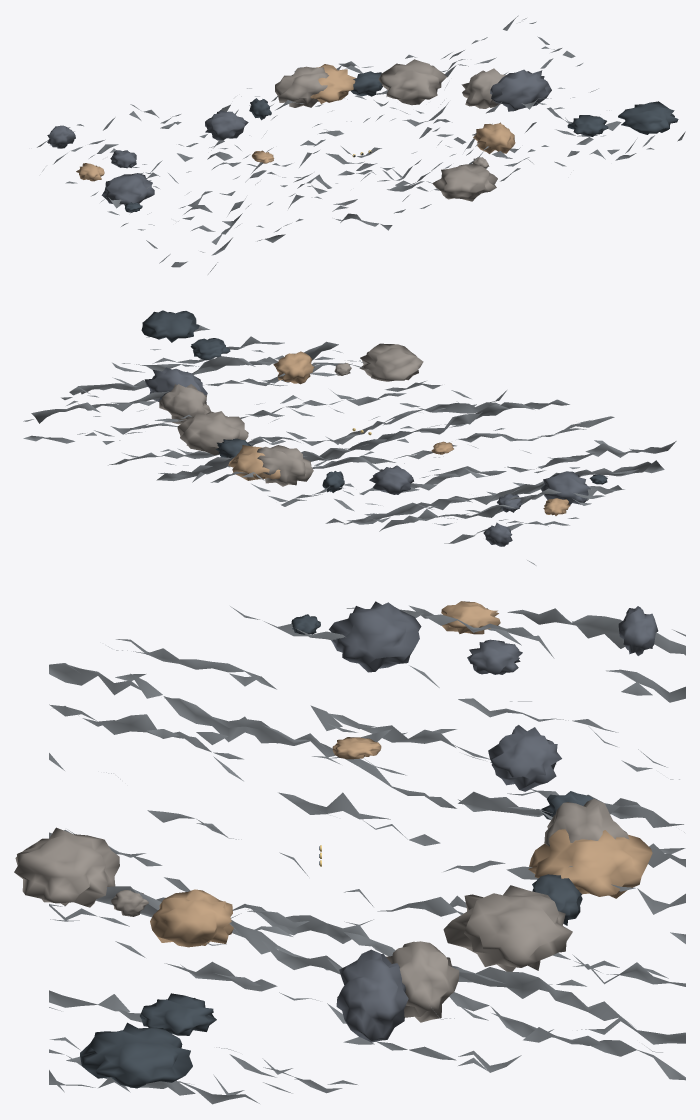
File: 02_L92_CarbonaceousAsteroidSurface.glb
3 renders of one model, top to bottom at view 1: azimuth 30°, elevation 25°; view 2: azimuth 150°, elevation 25°; view 3: azimuth 270°, elevation 25°, orthographic. The views are drawn at different scales.
Parts seen in each view (by area): view 1: L92_CarbonaceousAsteroidSurfa_Part_0000, L92_CarbonaceousAsteroidSurfa_Part_0003, L92_CarbonaceousAsteroidSurfa_Part_0001, L92_CarbonaceousAsteroidSurfa_Part_0002, L92_CarbonaceousAsteroidSurfa_Part_0004; view 2: L92_CarbonaceousAsteroidSurfa_Part_0000, L92_CarbonaceousAsteroidSurfa_Part_0003, L92_CarbonaceousAsteroidSurfa_Part_0001, L92_CarbonaceousAsteroidSurfa_Part_0002, L92_CarbonaceousAsteroidSurfa_Part_0004; view 3: L92_CarbonaceousAsteroidSurfa_Part_0000, L92_CarbonaceousAsteroidSurfa_Part_0003, L92_CarbonaceousAsteroidSurfa_Part_0001, L92_CarbonaceousAsteroidSurfa_Part_0004, L92_CarbonaceousAsteroidSurfa_Part_0002.
Part boxes in pixels (x1,y1,x2,y2): L92_CarbonaceousAsteroidSurfa_Part_0000: (37,15,685,274); L92_CarbonaceousAsteroidSurfa_Part_0003: (275,59,505,201); L92_CarbonaceousAsteroidSurfa_Part_0001: (47,69,551,204); L92_CarbonaceousAsteroidSurfa_Part_0002: (124,71,678,212); L92_CarbonaceousAsteroidSurfa_Part_0004: (76,64,515,181); L92_CarbonaceousAsteroidSurfa_Part_0000: (23,324,676,565); L92_CarbonaceousAsteroidSurfa_Part_0003: (159,343,423,486); L92_CarbonaceousAsteroidSurfa_Part_0001: (144,367,590,546); L92_CarbonaceousAsteroidSurfa_Part_0002: (141,310,607,492); L92_CarbonaceousAsteroidSurfa_Part_0004: (228,351,570,515); L92_CarbonaceousAsteroidSurfa_Part_0000: (49,605,685,1104); L92_CarbonaceousAsteroidSurfa_Part_0003: (14,799,629,1022); L92_CarbonaceousAsteroidSurfa_Part_0001: (329,601,658,1042); L92_CarbonaceousAsteroidSurfa_Part_0004: (150,601,652,947); L92_CarbonaceousAsteroidSurfa_Part_0002: (80,614,592,1088).
Size of the model in its own units: 23.44 by 2.47 by 13.71.
